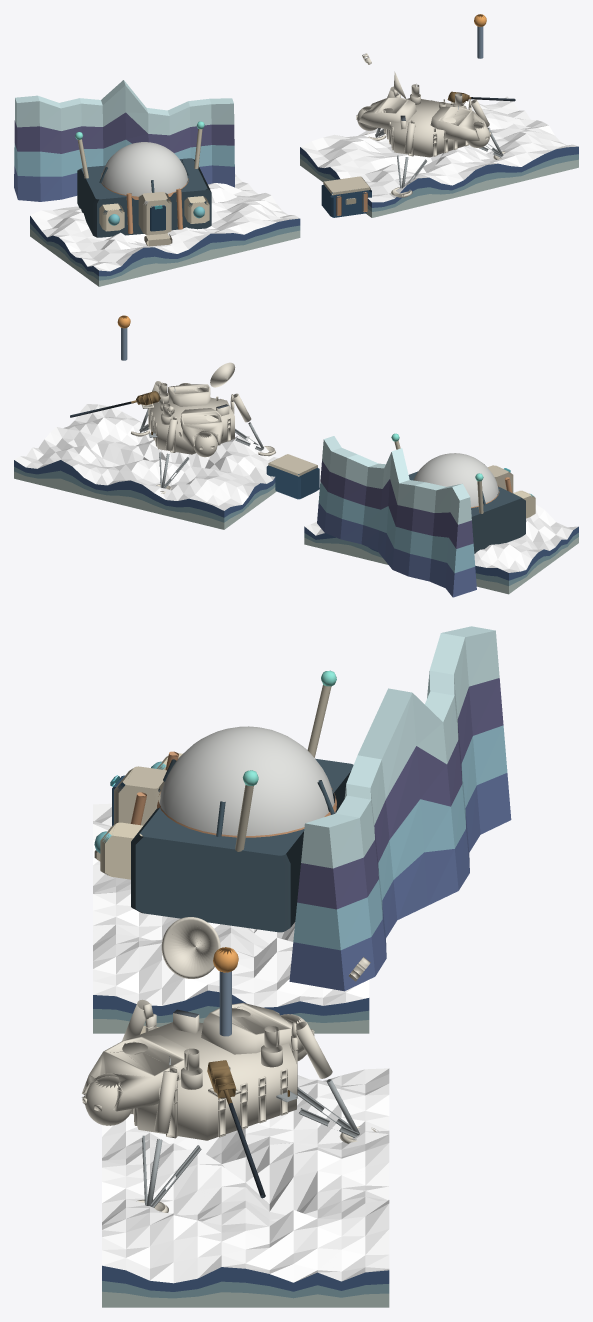
File: europa-descenso.obj
The picture shows the model from 3 angles, top to bottom: view 1: azimuth 30°, elevation 25°; view 2: azimuth 150°, elevation 25°; view 3: azimuth 270°, elevation 25°; orthographic projection. The views are drawn at different scales.
Parts seen in each view (by area): view 1: europa-descenso; view 2: europa-descenso; view 3: europa-descenso.
Boxes of the visible parts, <box> form: europa-descenso: <box>14,14,578,286</box>; europa-descenso: <box>14,315,578,597</box>; europa-descenso: <box>82,626,511,1307</box>.
Bounding box in the file's own units: 1.68 × 0.4865 × 0.647.
